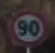limite 90: (6, 9, 49, 48)
